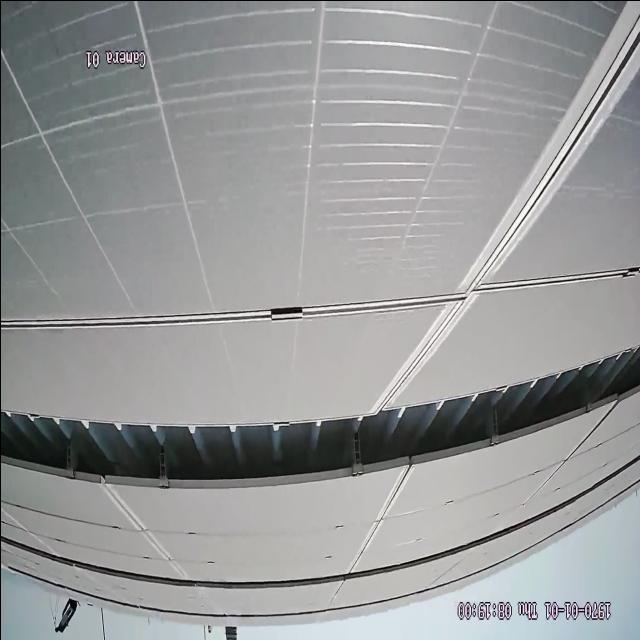interior panel: (14, 5, 640, 394), (103, 488, 184, 567), (347, 471, 410, 567)
outher panel: (2, 347, 640, 486)
